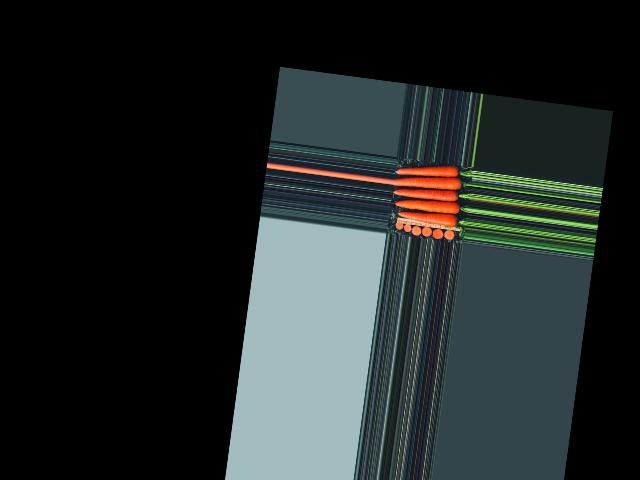carrot: (393, 207, 463, 231)
